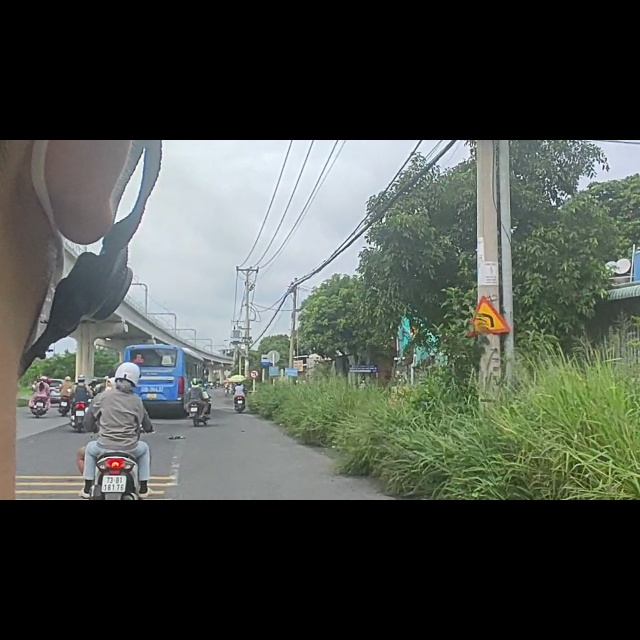bien_cam: (465, 277, 513, 351), (259, 377, 273, 402), (249, 408, 259, 424)
